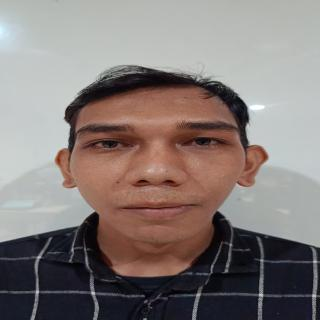Netral: (69, 84, 249, 248)
